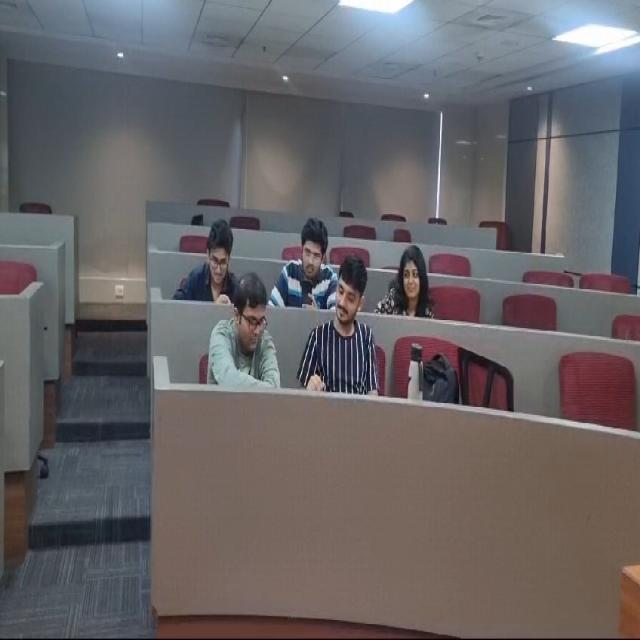cheating: (320, 252, 388, 394), (212, 267, 280, 395), (262, 215, 343, 312), (186, 213, 238, 301)
non-cheating: (380, 224, 443, 320)
